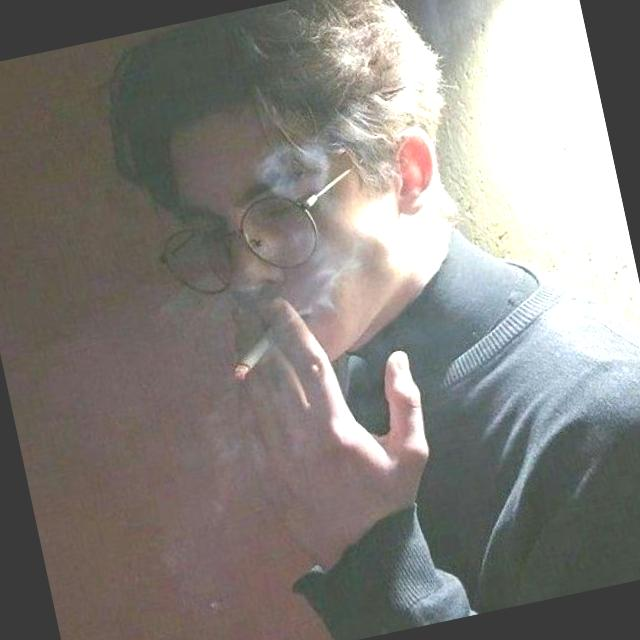cigarette: (212, 288, 326, 396)
